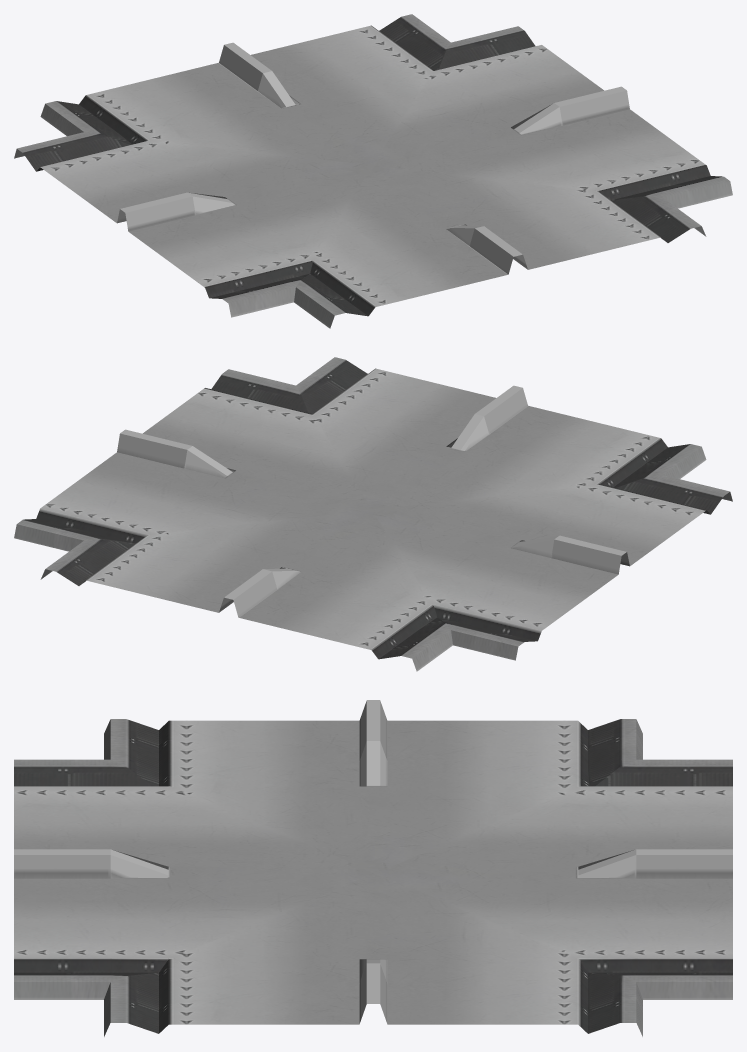
Rendered from road_X.glb.
3 views of the same model, one above another, from view 1: azimuth 30°, elevation 25°; view 2: azimuth 150°, elevation 25°; view 3: azimuth 270°, elevation 25° (orthographic). The views are drawn at different scales.
Visible parts, largest first — view 1: Plane.002; view 2: Plane.002; view 3: Plane.002.
Boxes of the visible parts, x1=… form: Plane.002: x1=14, y1=14, x2=732, y2=328; Plane.002: x1=14, y1=357, x2=732, y2=671; Plane.002: x1=14, y1=700, x2=732, y2=1036.
Size of the model in its own units: 20 by 1.04 by 20.
Materials: 1 (1 with a texture image).
